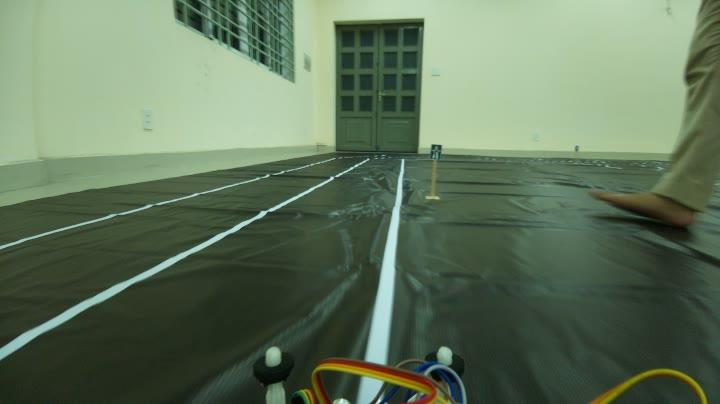highway_exit: (426, 140, 445, 164)
